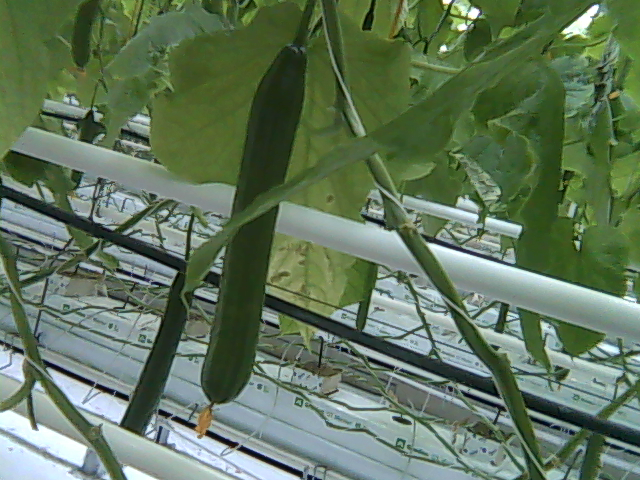concombre: (195, 25, 311, 440)
